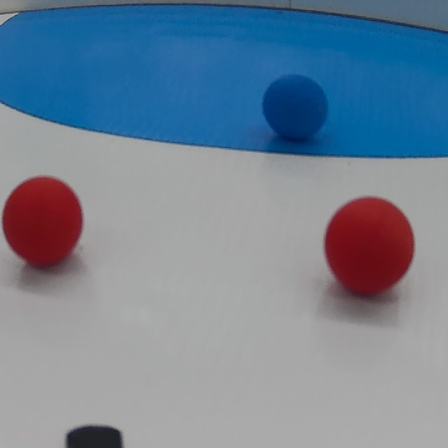blue: (257, 73, 330, 144)
blue_base: (0, 4, 448, 158)
red: (318, 197, 415, 297), (1, 175, 83, 269)
